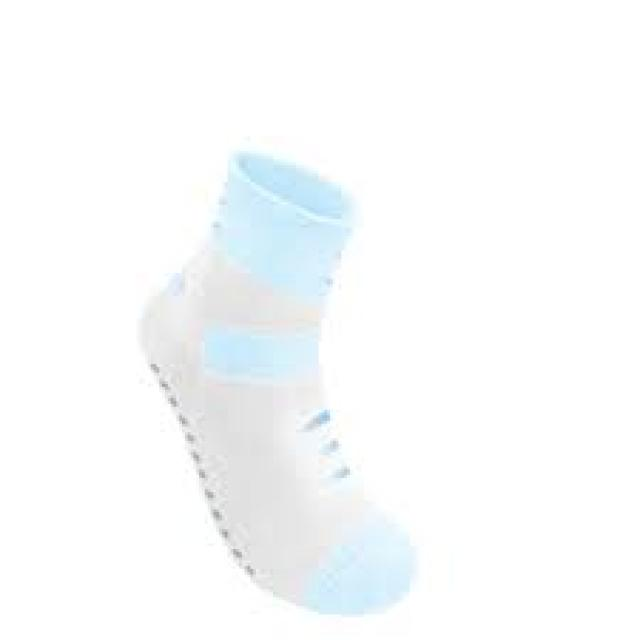sock: (134, 145, 418, 614)
